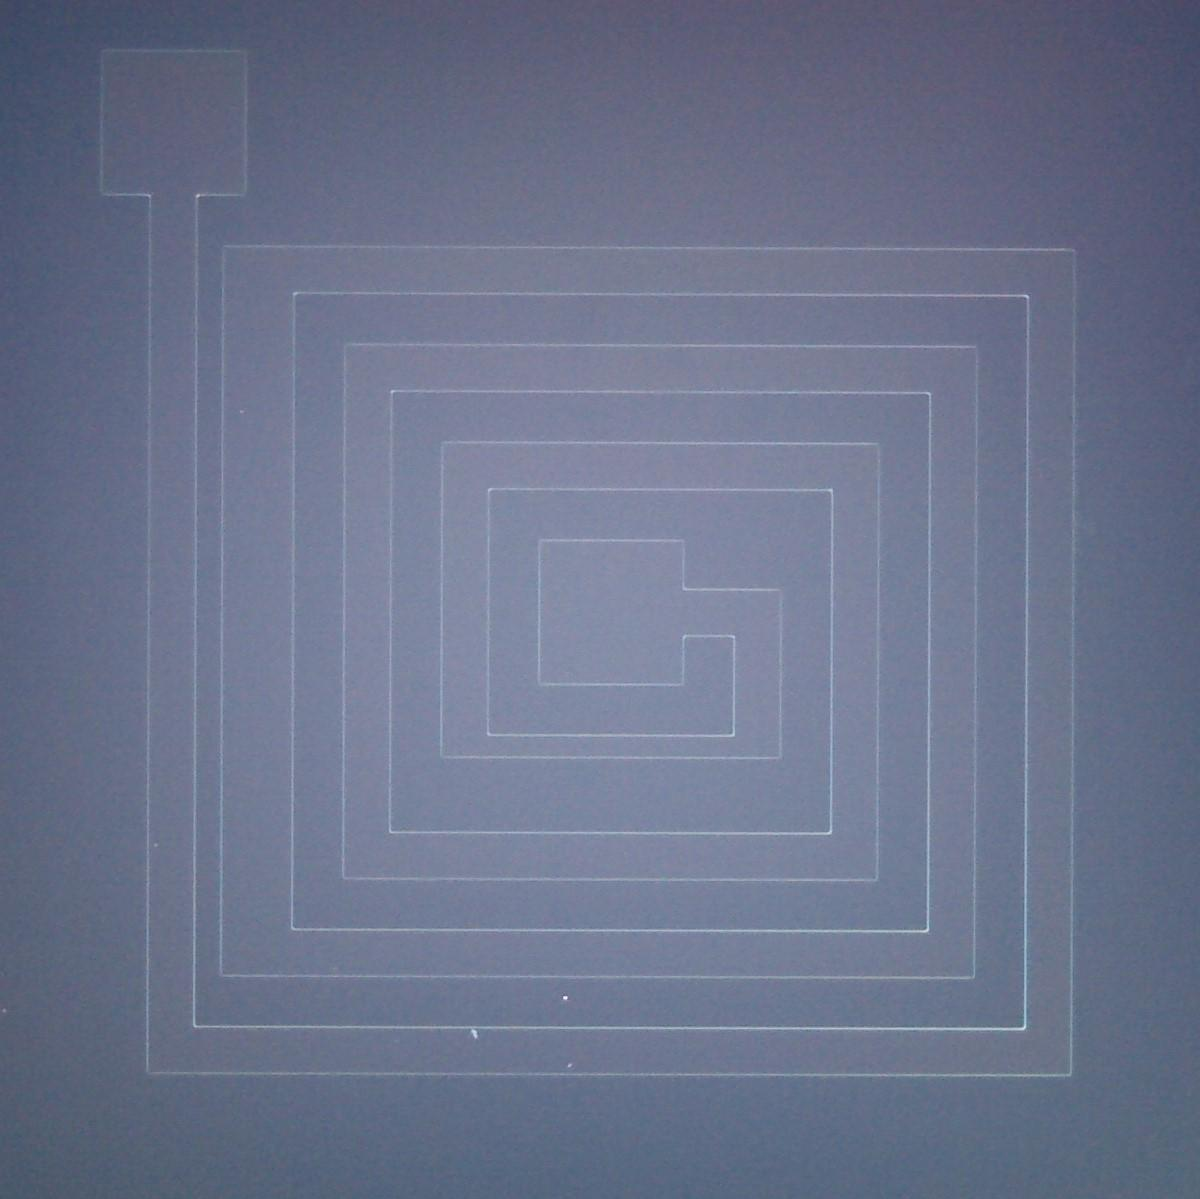B_point: (461, 1022, 489, 1046)
s_point: (556, 989, 575, 1006), (562, 1056, 579, 1072), (0, 1004, 15, 1018), (235, 405, 249, 418), (149, 839, 162, 852)
width: (128, 227, 414, 1001), (415, 603, 807, 890)
